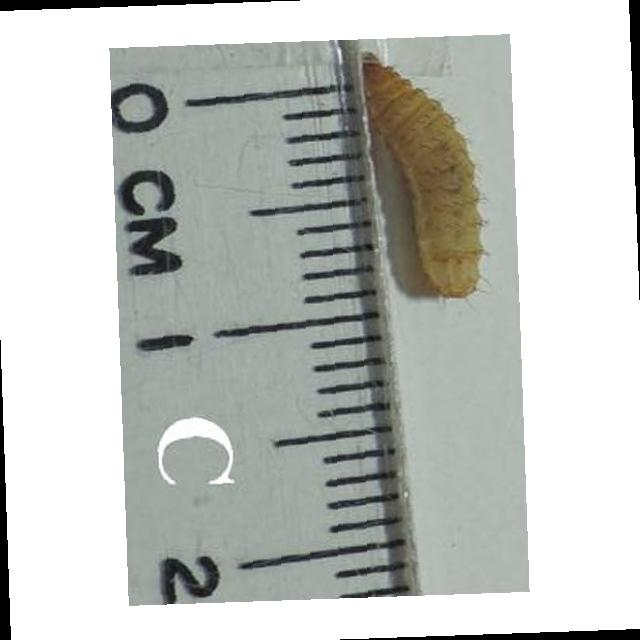Maggot: (361, 51, 486, 300)
